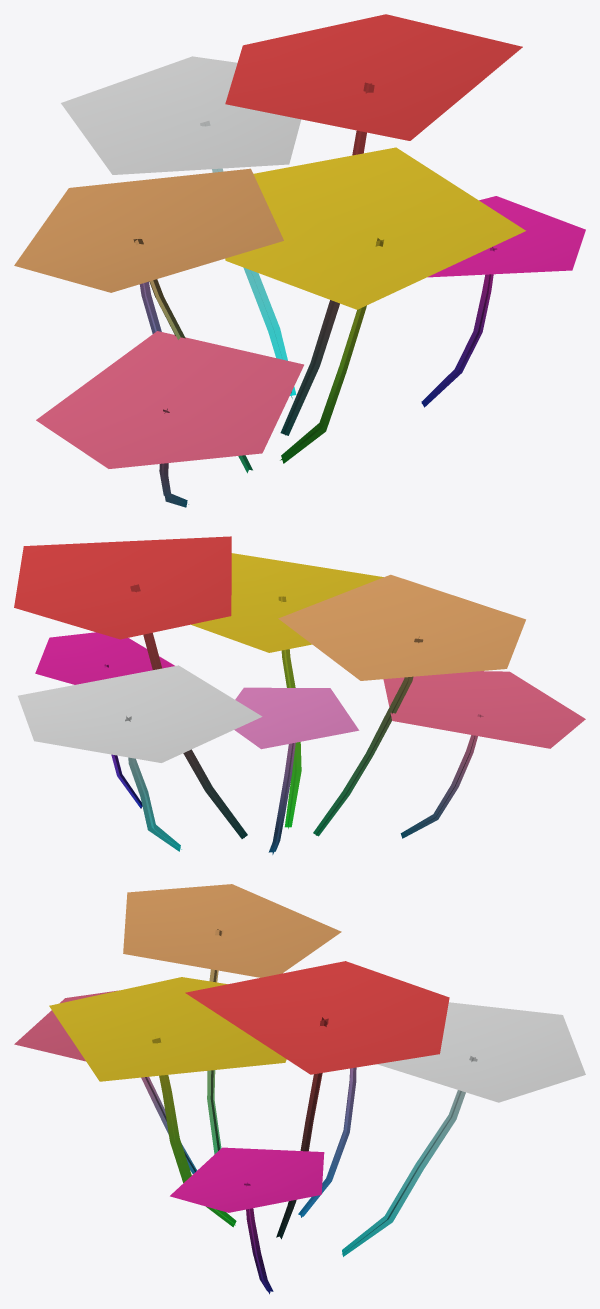
The model's file is Wood_Sorrel_wcwmchzja_Mid_wcwmchzja_VarB_LOD0.fbx.
3 renders of one model, top to bottom at view 1: azimuth 30°, elevation 25°; view 2: azimuth 150°, elevation 25°; view 3: azimuth 270°, elevation 25°, orthographic. The views are drawn at different scales.
Visible parts, largest first — view 1: _3h9t_VarB_LOD1; view 2: _3h9t_VarB_LOD1; view 3: _3h9t_VarB_LOD1.
Part boxes in pixels (x1=…): _3h9t_VarB_LOD1: x1=14, y1=14, x2=585, y2=507; _3h9t_VarB_LOD1: x1=14, y1=536, x2=585, y2=854; _3h9t_VarB_LOD1: x1=14, y1=884, x2=585, y2=1294.
Bounding box in the file's own units: 10.37 × 5.4 × 10.12.
